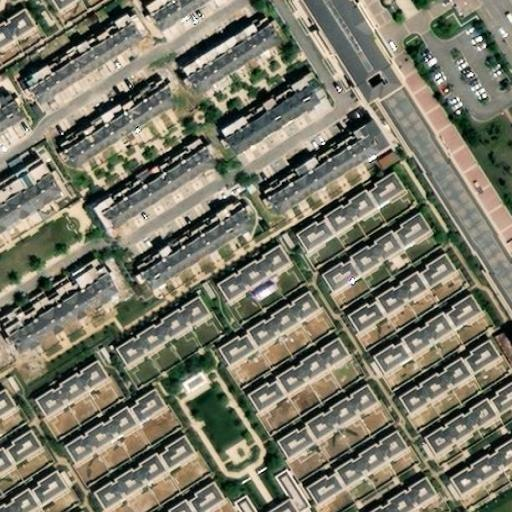building: (384, 106, 512, 330), (83, 142, 218, 252), (47, 88, 179, 187), (15, 24, 143, 122), (133, 204, 262, 301), (262, 129, 391, 224), (5, 281, 125, 376), (347, 268, 461, 350), (213, 81, 320, 167), (373, 310, 485, 390), (324, 228, 433, 307), (298, 188, 407, 266), (173, 28, 276, 108), (398, 355, 503, 432), (64, 401, 169, 477), (220, 307, 323, 382), (249, 353, 351, 428), (279, 400, 381, 473), (305, 445, 412, 512), (118, 311, 211, 380), (95, 450, 196, 512), (427, 399, 512, 471), (35, 375, 111, 434), (217, 259, 293, 318), (0, 171, 54, 234), (452, 456, 512, 512), (0, 446, 45, 492), (168, 362, 205, 395), (0, 14, 31, 53), (0, 100, 25, 145), (229, 489, 254, 512)
